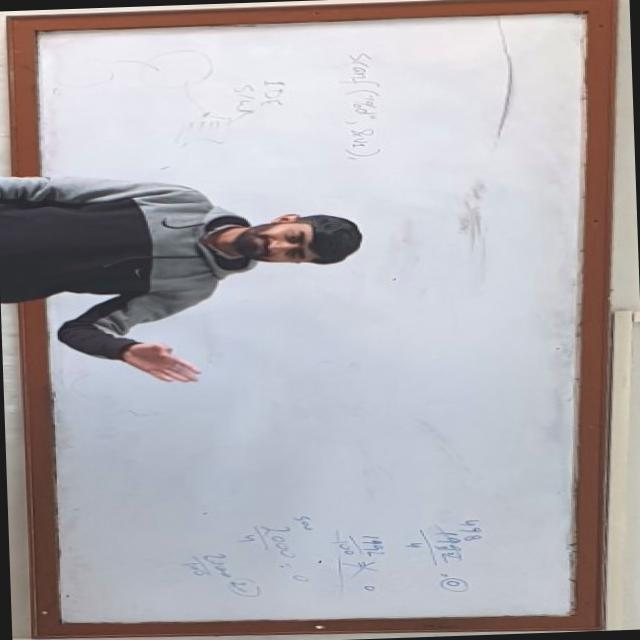Instructor: (0, 173, 371, 318)
White-board: (24, 2, 601, 630)
